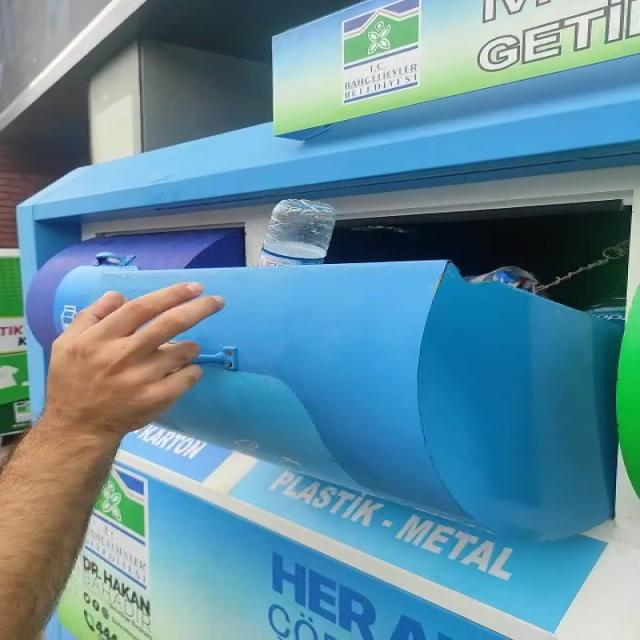plastic: (259, 199, 335, 266)
